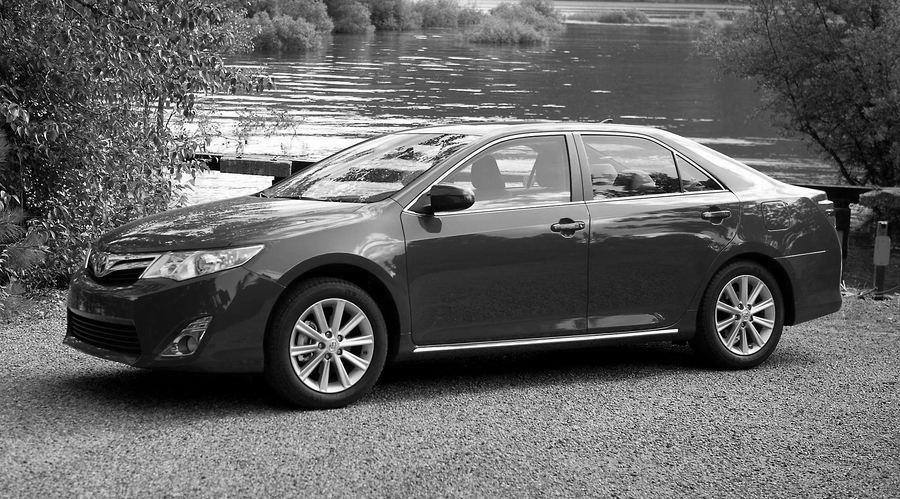car: (63, 122, 844, 410)
